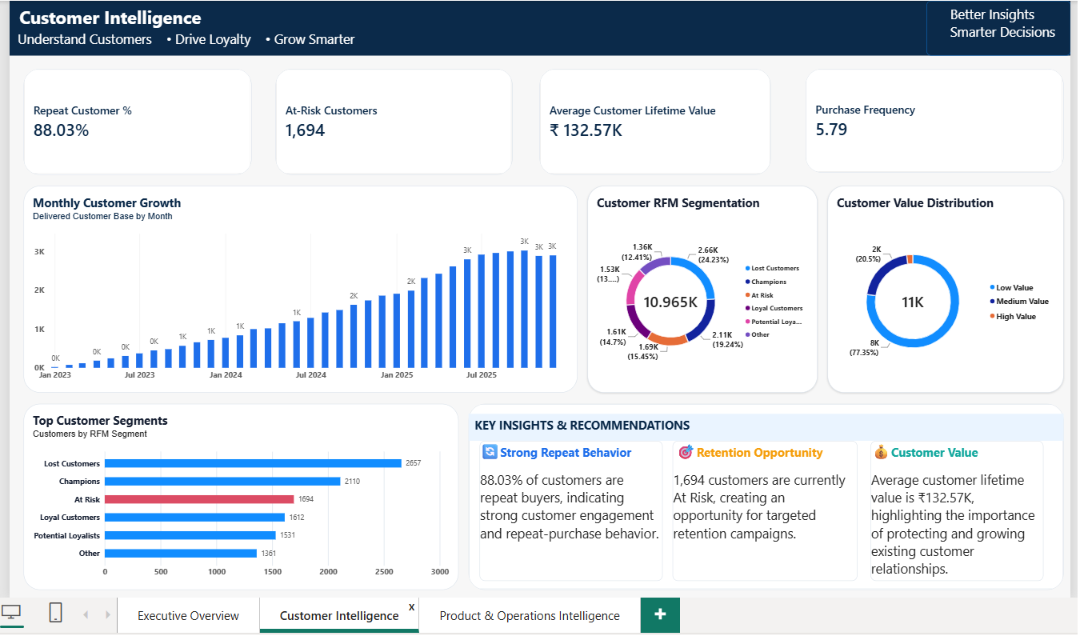

This screenshot's page, from the dashboard's own definition file:
{"tool":"powerbi","page":{"name":"Customer Intelligence","canvas":[1920,1080],"ordinal":1},"visuals":[{"type":"donutChart","title":"Customer RFM Segmentation","fields":{"Category":["Customer RFM.RFM Segment"],"Y":["CountNonNull(Customer RFM.customer_id)"]},"box":[1046,334.8,416.2,374.6],"z":0},{"type":"cardVisual","fields":{"Data":["public orders.Repeat Customer %"]},"box":[25.3,123.1,412.6,191.8],"z":1000},{"type":"cardVisual","fields":{"Data":["Customer RFM.At-Risk Customers"]},"box":[481.4,123.1,428.9,191.8],"z":2000},{"type":"cardVisual","fields":{"Data":["Customer Value.Customer Lifetime Value"]},"box":[959.1,123.1,418,191.8],"z":3000},{"type":"donutChart","title":"Customer Value Distribution","fields":{"Category":["Customer Value.Customer Value Segment"],"Y":["Customer Value.Customer Count"]},"box":[1480.3,334.8,427.1,374.6],"z":4000},{"type":"textbox","box":[0,0,1920.4,115.3],"z":5000},{"type":"shape","box":[0,0,1920.1,99.5],"z":6000},{"type":"textbox","box":[0,0,664.1,85.1],"z":7000},{"type":"cardVisual","fields":{"Data":["public orders.Purchase Frequency"]},"box":[1440.5,123.1,466.9,188.2],"z":8000},{"type":"textbox","box":[1659.5,0,260.6,99.5],"z":9000},{"type":"lineClusteredColumnComboChart","title":"Monthly Customer Growth","fields":{"Category":["public orders.Month Year"],"Y":["public orders.Total Customers"]},"box":[25.3,334.8,1002.6,374.6],"z":10000},{"type":"clusteredBarChart","title":"Top Customer Segments","fields":{"Category":["Customer RFM.RFM Segment"],"Y":["Customer RFM.RFM Customer Count"]},"box":[25.3,729.3,787.2,336.6],"z":11000},{"type":"shape","box":[830.6,729.3,1076.7,336.6],"z":12000},{"type":"textbox","box":[830.6,747.4,1076.7,48.9],"z":13000},{"type":"textbox","box":[850.5,796.3,331.2,253.4],"z":14000},{"type":"textbox","box":[1199.8,796.3,334.8,253.4],"z":15000},{"type":"textbox","box":[1558.1,796.3,313.1,253.4],"z":16000}]}

Visuals, with their boxes on the page's 1920x1080 design canvas (x1, y1, x2, y2). These are canvas units, not pixel positions in the 1078x635 screenshot, which may show the page scaled, cropped or inside an application window:
"Customer RFM Segmentation" donutChart: <box>1046,335,1462,709</box>
cardVisual - public orders.Repeat Customer %: <box>25,123,438,315</box>
cardVisual - Customer RFM.At-Risk Customers: <box>481,123,910,315</box>
cardVisual - Customer Value.Customer Lifetime Value: <box>959,123,1377,315</box>
"Customer Value Distribution" donutChart: <box>1480,335,1907,709</box>
textbox: <box>0,0,1920,115</box>
shape: <box>0,0,1920,100</box>
textbox: <box>0,0,664,85</box>
cardVisual - public orders.Purchase Frequency: <box>1440,123,1907,311</box>
textbox: <box>1660,0,1920,100</box>
"Monthly Customer Growth" lineClusteredColumnComboChart: <box>25,335,1028,709</box>
"Top Customer Segments" clusteredBarChart: <box>25,729,812,1066</box>
shape: <box>831,729,1907,1066</box>
textbox: <box>831,747,1907,796</box>
textbox: <box>850,796,1182,1050</box>
textbox: <box>1200,796,1535,1050</box>
textbox: <box>1558,796,1871,1050</box>
